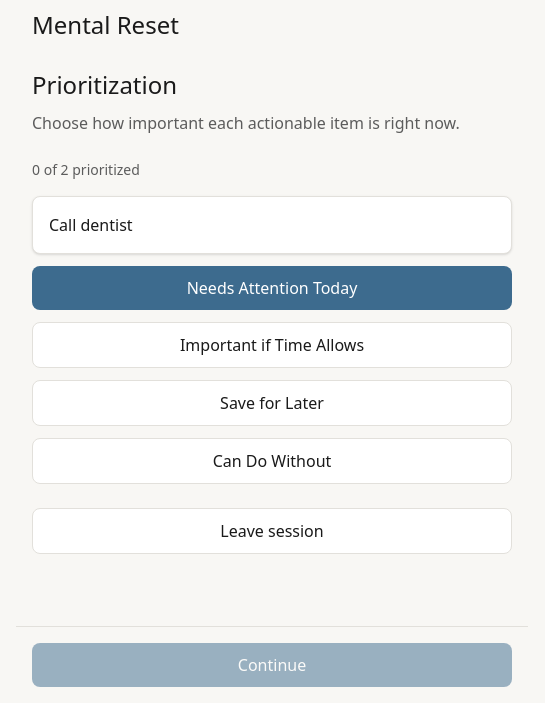
Scenario: Prioritization screen › promotes TODAY/SOON/LATER to the task store and increments tasksCreated
Click the button "Needs Attention Today" at (272, 288), box [32,266,512,310]
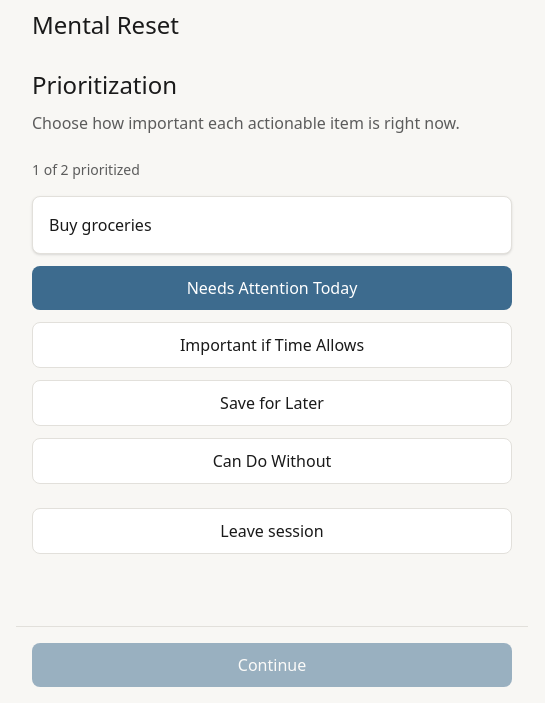
Expected: the text "Buy groceries" is shown, [49,214,152,236]
Expected: the text "1 of 2 prioritized" is shown, [32,160,140,179]
